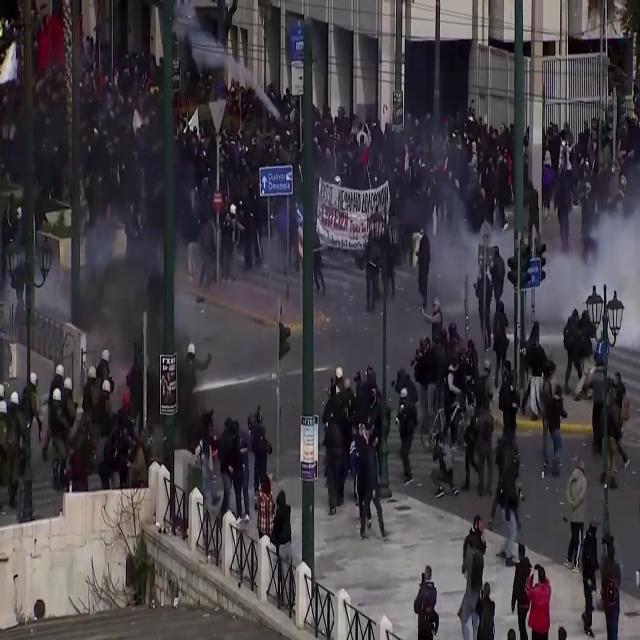Smoke: (50, 180, 167, 370), (586, 175, 640, 348), (424, 197, 486, 321)
